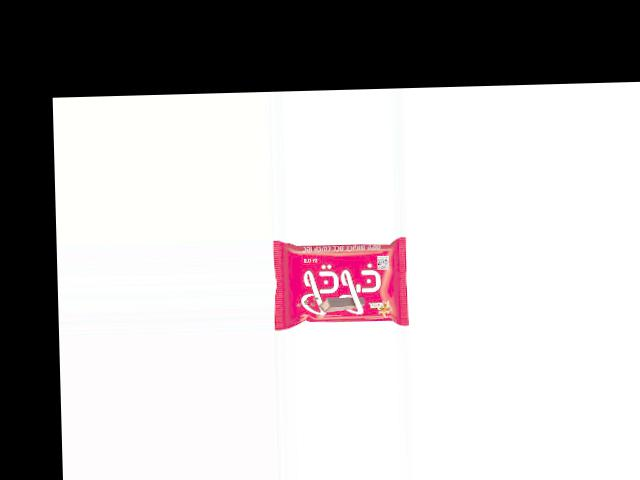chocolate: (273, 235, 408, 329)
